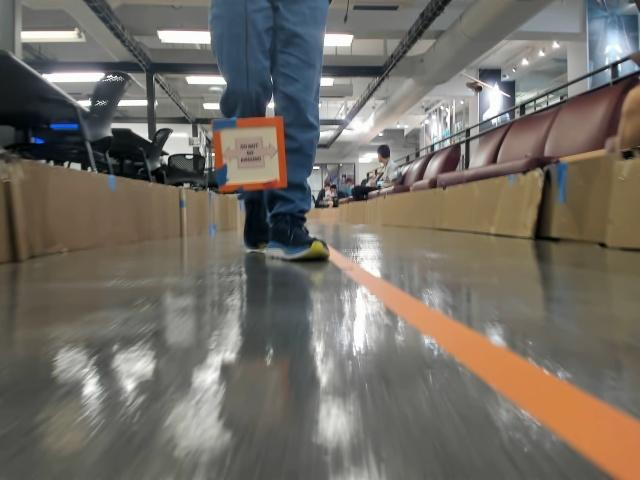Do Not Go Around: (221, 139, 275, 170)
